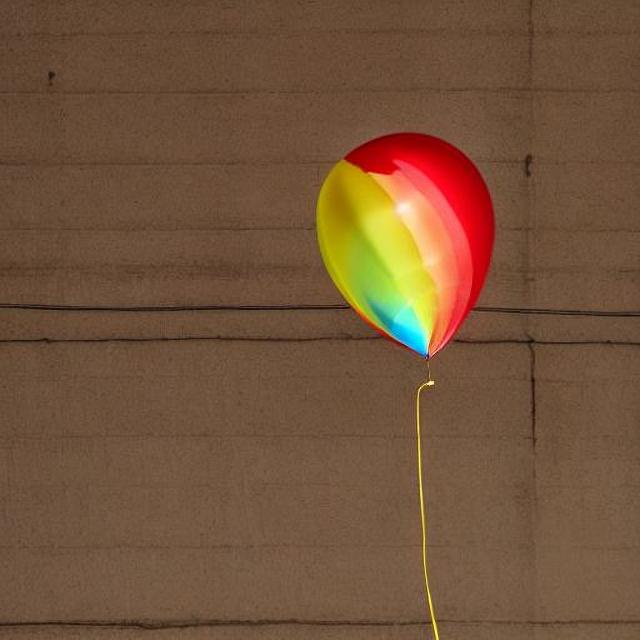balloon: (306, 128, 500, 360)
